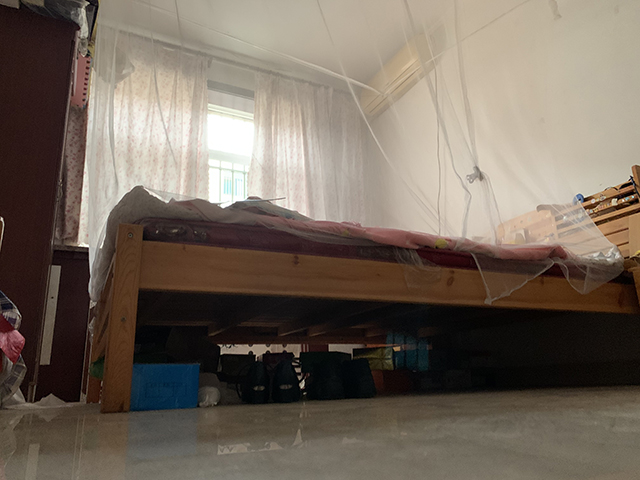bed: (83, 165, 640, 416)
cabinet: (1, 5, 90, 407)
